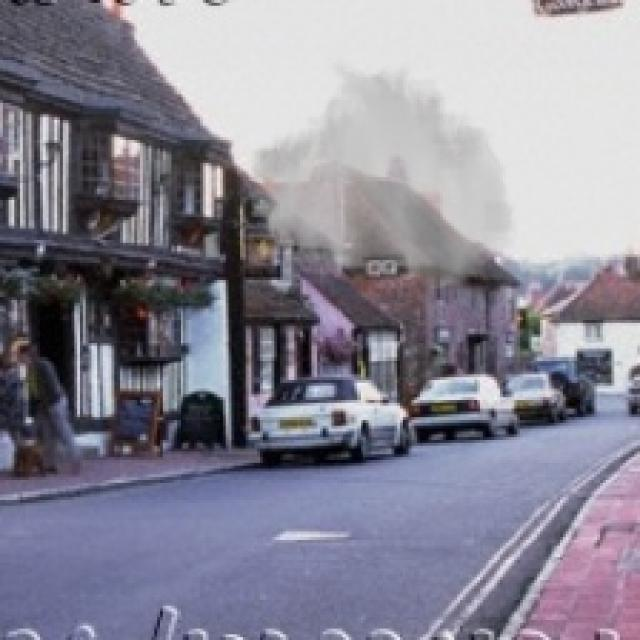smoke: (246, 57, 520, 292)
